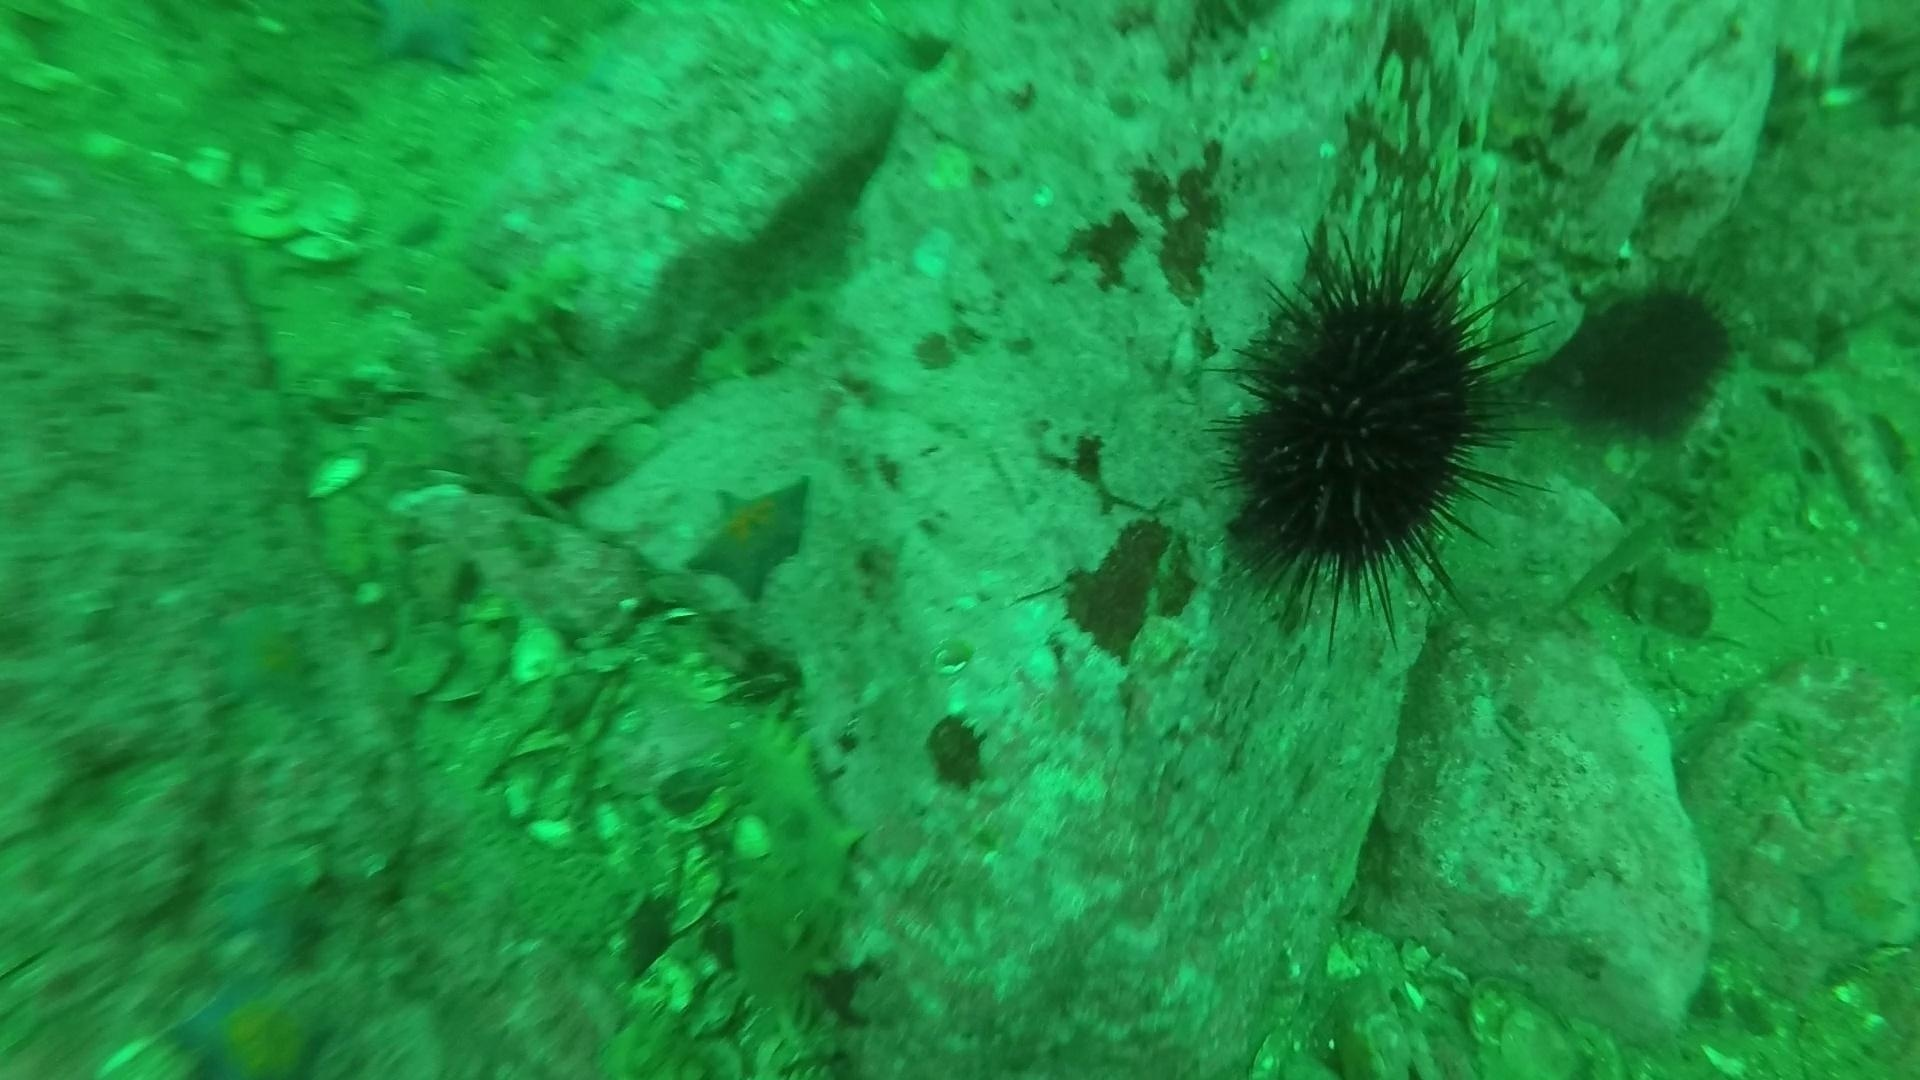echinus: (1208, 225, 1534, 625), (1553, 266, 1745, 440)
holothurian: (680, 699, 868, 1017), (1668, 375, 1801, 562), (444, 243, 599, 384), (686, 277, 847, 396)
starfish: (164, 967, 340, 1079), (679, 471, 822, 604), (1796, 831, 1917, 953), (202, 599, 327, 713), (195, 837, 324, 947), (353, 3, 498, 80)
